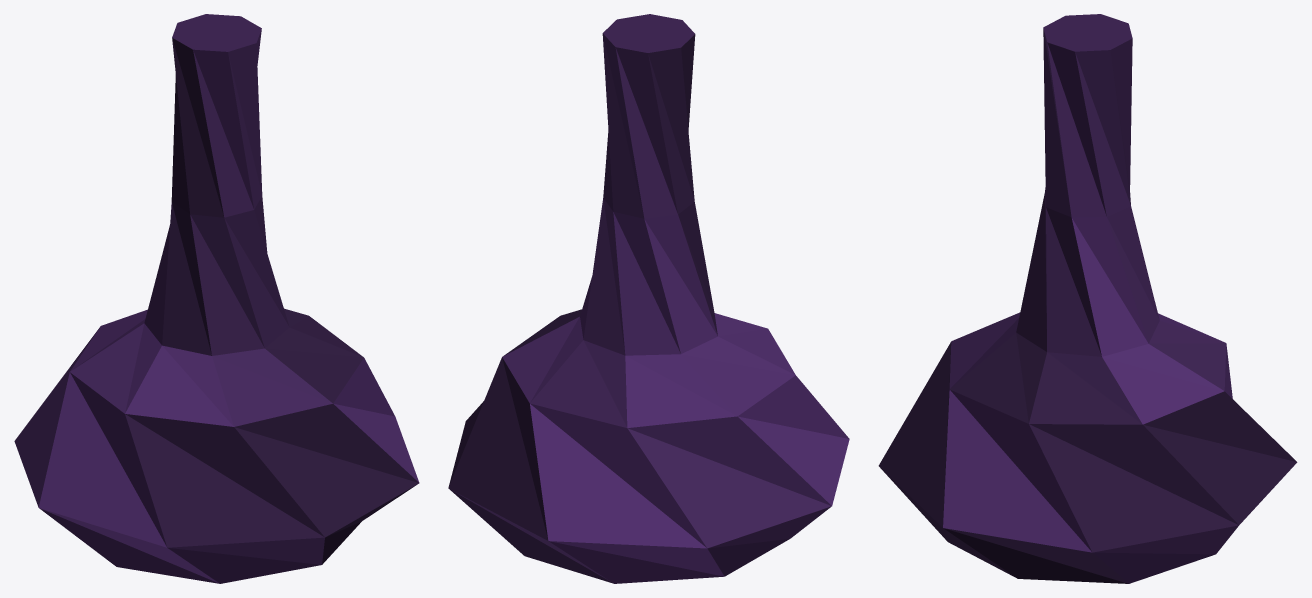
The model's file is Prop_VaseD.fbx.
3 views of the same model, side by side, from view 1: azimuth 30°, elevation 25°; view 2: azimuth 150°, elevation 25°; view 3: azimuth 270°, elevation 25° (orthographic).
Parts seen in each view (by area): view 1: Prop_VaseD; view 2: Prop_VaseD; view 3: Prop_VaseD.
Part boxes in pixels (x1=…): Prop_VaseD: x1=14, y1=14, x2=419, y2=583; Prop_VaseD: x1=448, y1=14, x2=849, y2=583; Prop_VaseD: x1=878, y1=14, x2=1297, y2=583.
Bounding box in the file's own units: 33.37 × 43.23 × 33.37.
